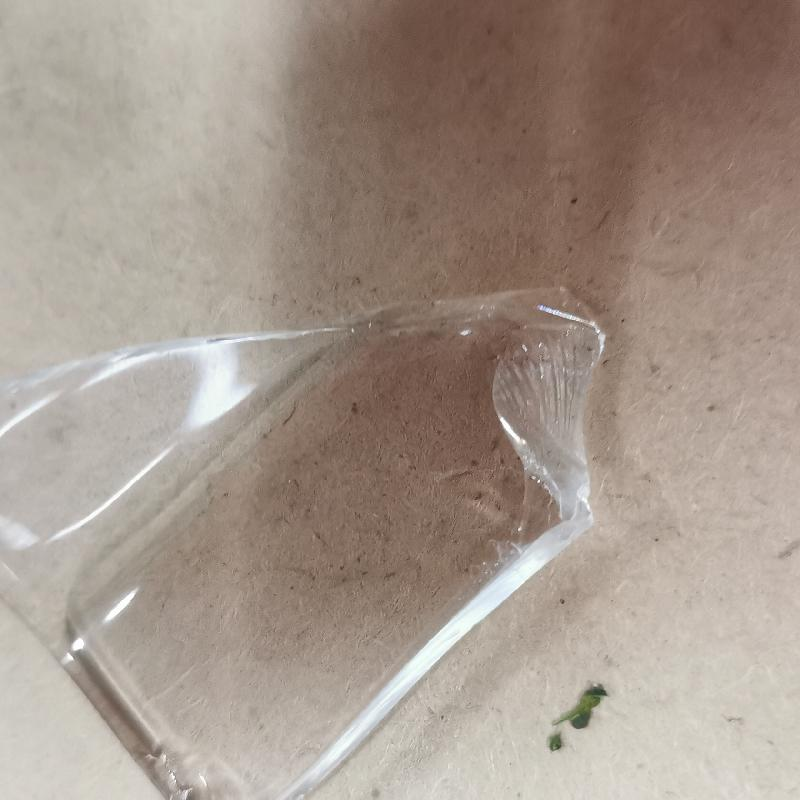glass: (3, 281, 603, 799)
